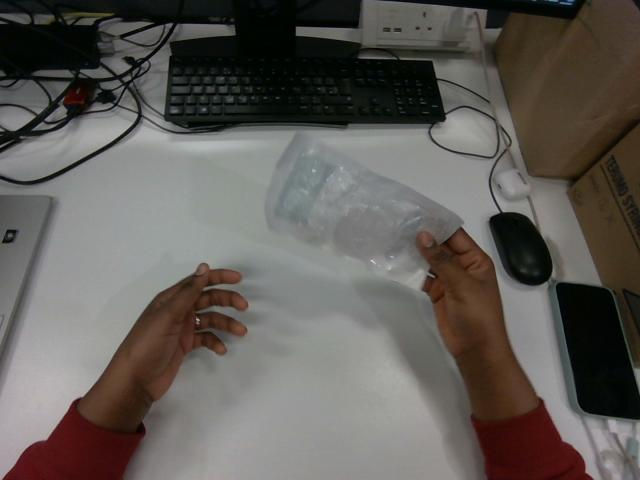gallipot: (265, 134, 461, 288)
